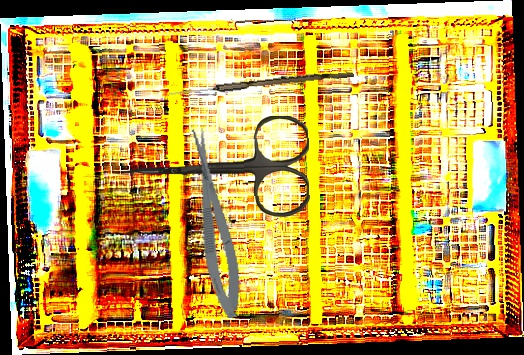Iris Scissors: (121, 115, 310, 220)
Micro Scissor: (185, 125, 247, 321)
Surgical Spoon: (168, 67, 354, 100)
